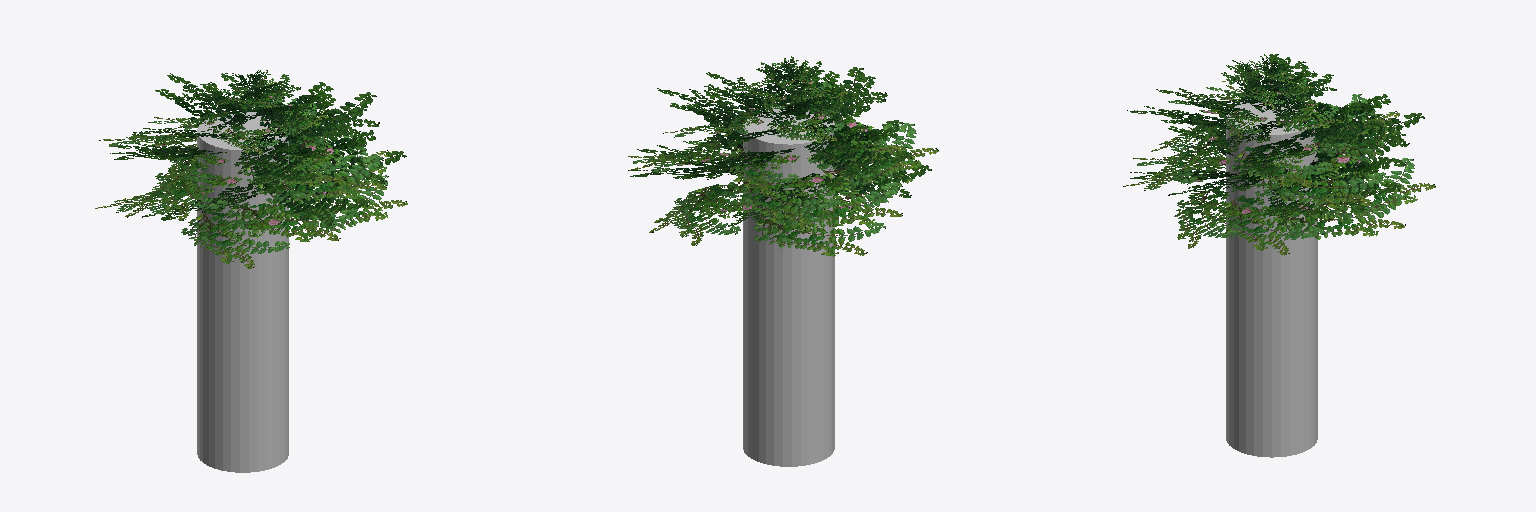
3 views of the same model, side by side, from view 1: azimuth 30°, elevation 25°; view 2: azimuth 150°, elevation 25°; view 3: azimuth 270°, elevation 25° (orthographic).
Visible parts, largest first — view 1: Cylinder; view 2: Cylinder; view 3: Cylinder.
Part boxes in pixels (x1,y1,x2,y2): Cylinder: (95,70,407,472); Cylinder: (628,56,938,466); Cylinder: (1123,54,1435,457).
Bounding box in the file's own units: 5.39 × 6.39 × 5.28.
Materials: 5 (1 with a texture image).